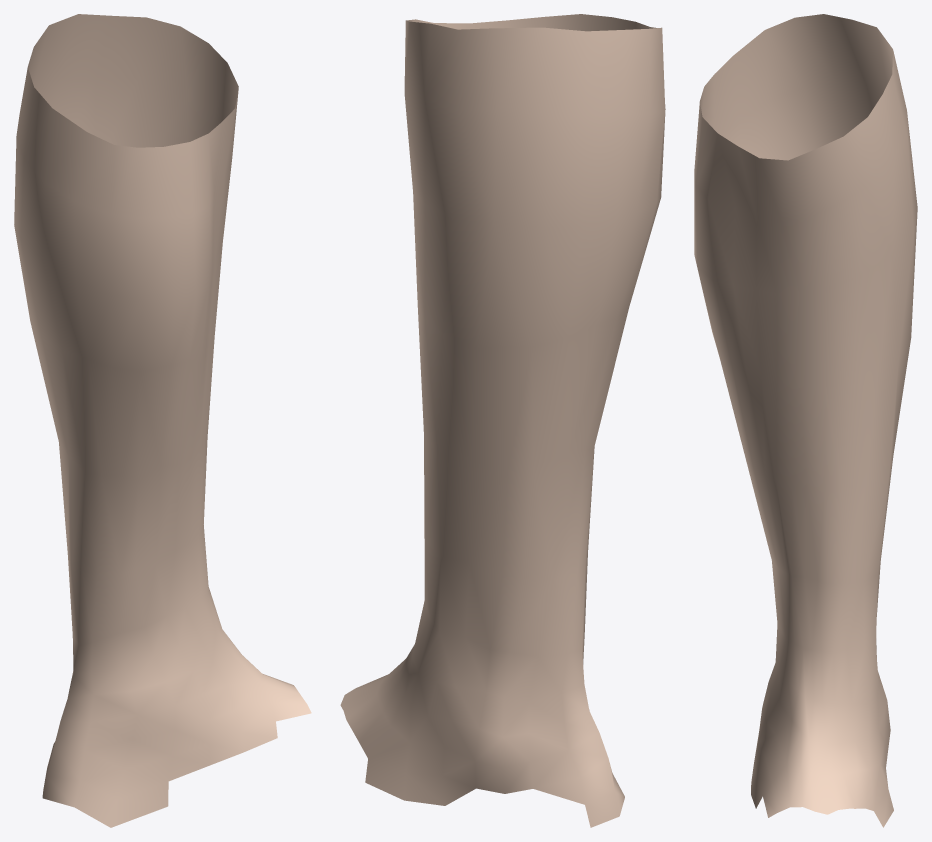
File: human_leftlowerleg.dae
The picture shows the model from 3 angles, left to right: view 1: azimuth 30°, elevation 25°; view 2: azimuth 150°, elevation 25°; view 3: azimuth 270°, elevation 25°; orthographic projection. The views are drawn at different scales.
Parts seen in each view (by area): view 1: frank_skeleton-base; view 2: frank_skeleton-base; view 3: frank_skeleton-base.
Boxes of the visible parts, <box> form: frank_skeleton-base: <box>14,14,311,827</box>; frank_skeleton-base: <box>340,14,665,827</box>; frank_skeleton-base: <box>694,14,917,827</box>.
Bounding box in the file's own units: 0.1597 × 0.1134 × 0.4203.
